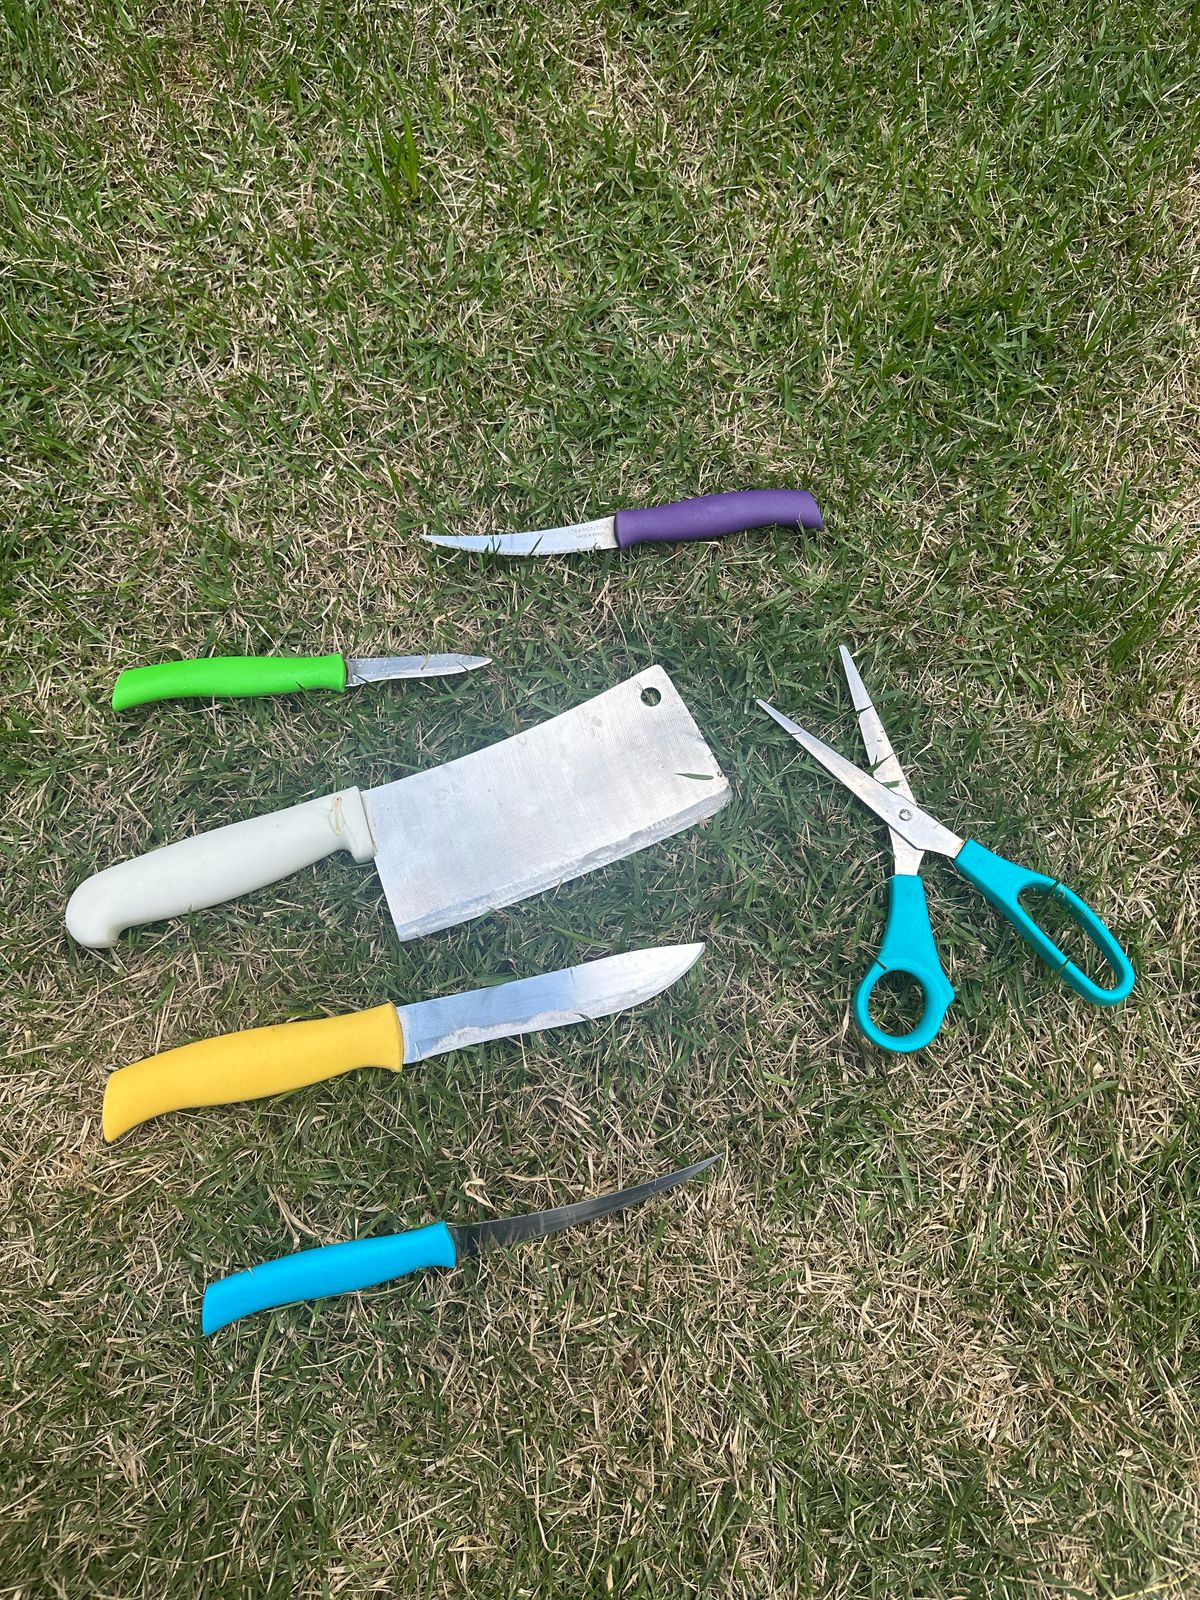faca: (76, 660, 737, 944), (92, 946, 730, 1153), (197, 1149, 740, 1348), (105, 646, 521, 719)
tesoura: (747, 627, 1141, 1056), (406, 474, 846, 572)
